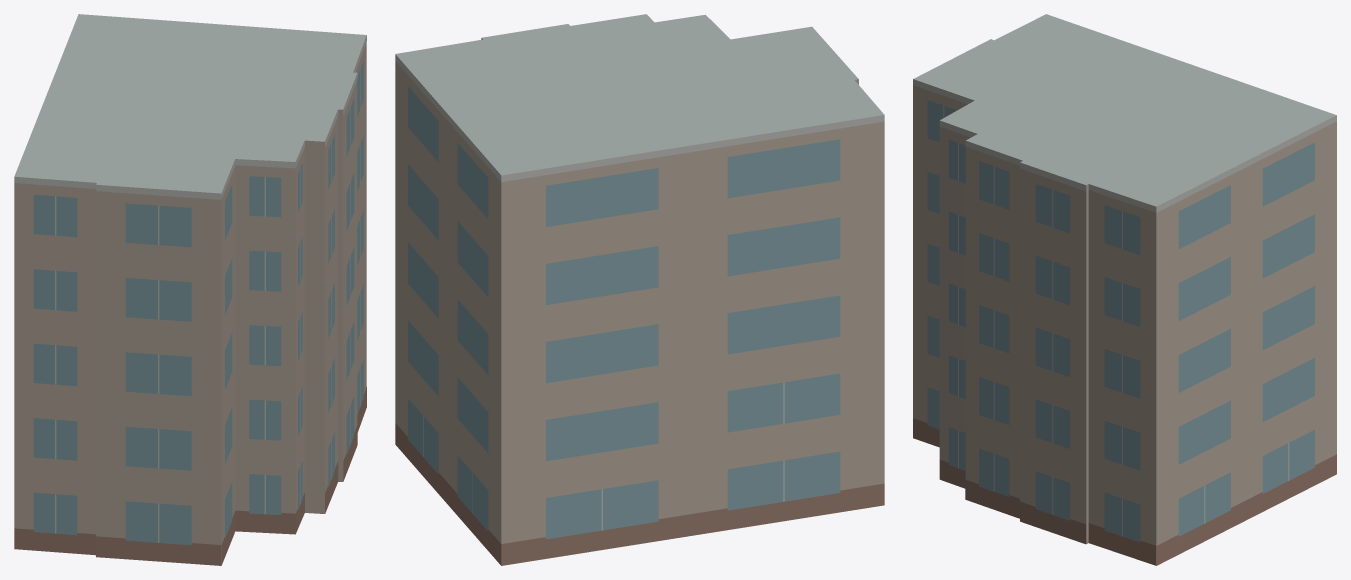
Rendered from survey-upis-32731777.glb.
3 renders of one model, left to right at view 1: azimuth 30°, elevation 25°; view 2: azimuth 150°, elevation 25°; view 3: azimuth 270°, elevation 25°, orthographic. The views are drawn at different scales.
Visible parts, largest first — view 1: survey-upis-32731777.tmp; view 2: survey-upis-32731777.tmp; view 3: survey-upis-32731777.tmp.
Part boxes in pixels (box(x1,y1,x2,y2)): survey-upis-32731777.tmp: box(14, 14, 366, 565); survey-upis-32731777.tmp: box(395, 14, 884, 565); survey-upis-32731777.tmp: box(913, 14, 1336, 565).
Bounding box in the file's own units: 16.59 × 14.4 × 15.41.
